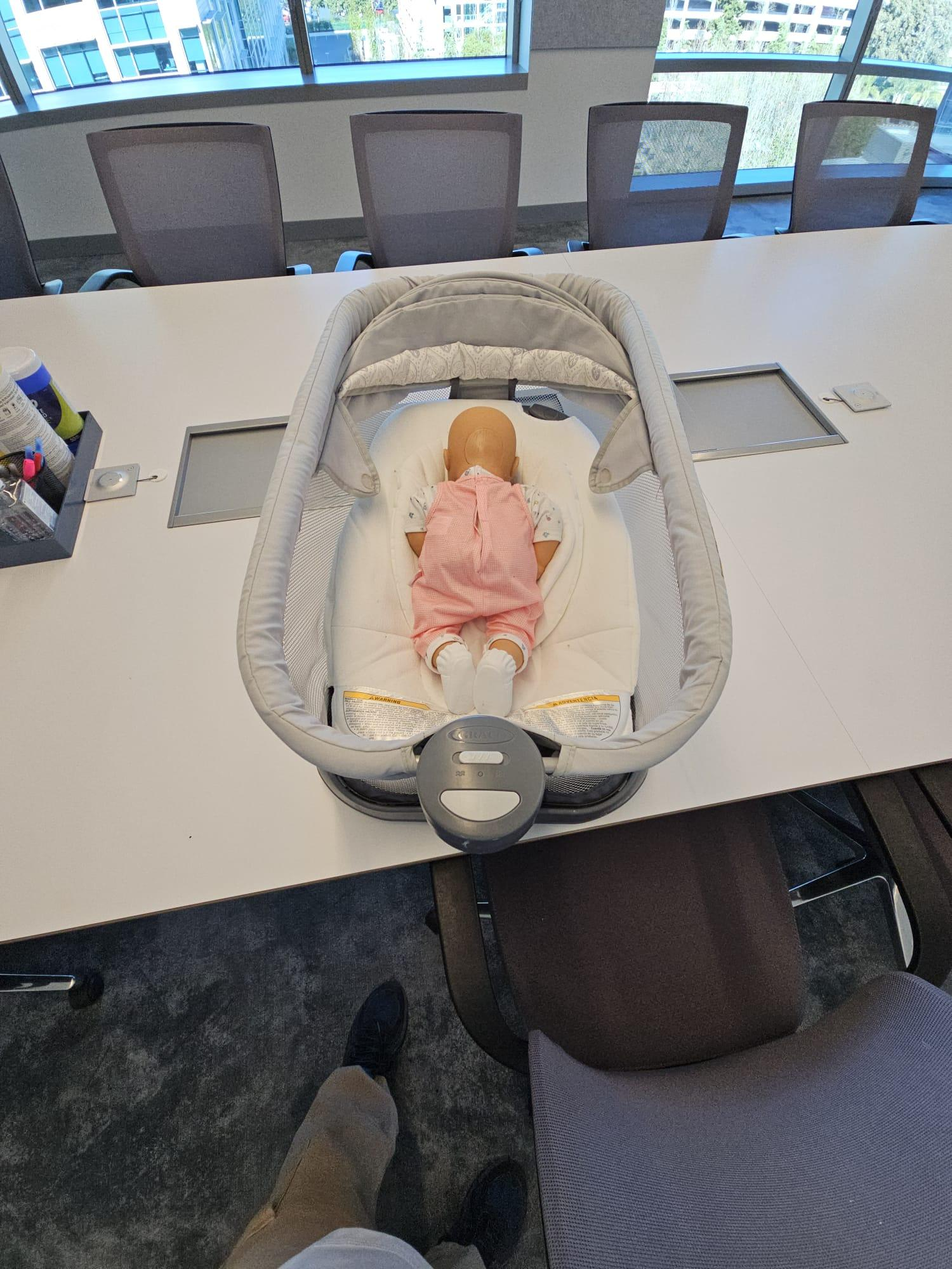baby: (387, 384, 580, 736)
